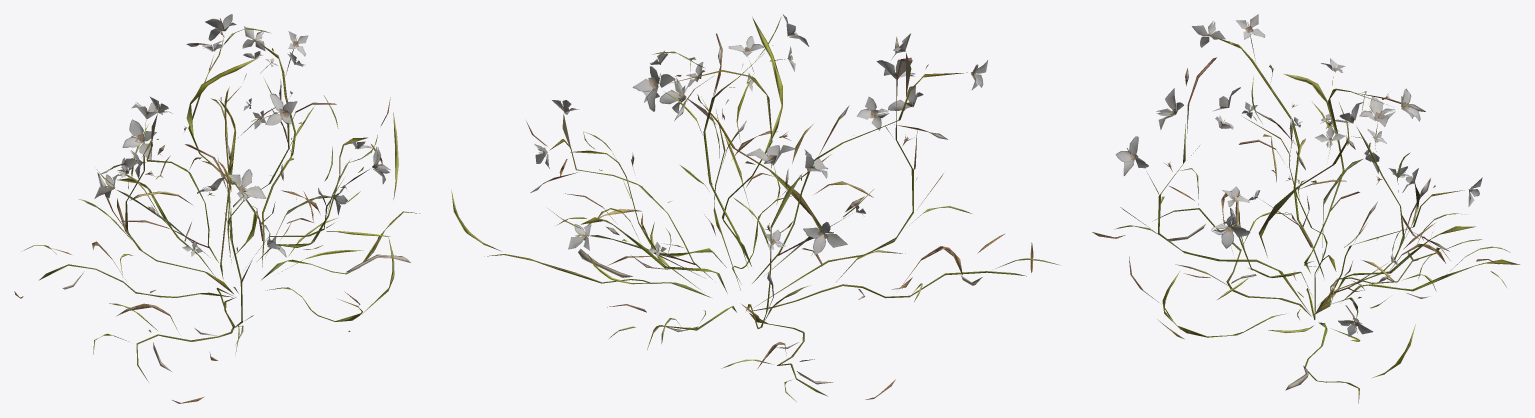
File: flowers_blue.glb
The picture shows the model from 3 angles, left to right: view 1: azimuth 30°, elevation 25°; view 2: azimuth 150°, elevation 25°; view 3: azimuth 270°, elevation 25°; orthographic projection. The views are drawn at different scales.
Parts seen in each view (by area): view 1: flower_heliophila_medium; view 2: flower_heliophila_medium; view 3: flower_heliophila_medium.
Part boxes in pixels (<box>): flower_heliophila_medium: <box>14,14,419,403</box>; flower_heliophila_medium: <box>451,14,1058,401</box>; flower_heliophila_medium: <box>1092,14,1519,403</box>.
Size of the model in its own units: 0.6518 by 0.3756 by 0.5768.
1 material, 1 textured.
